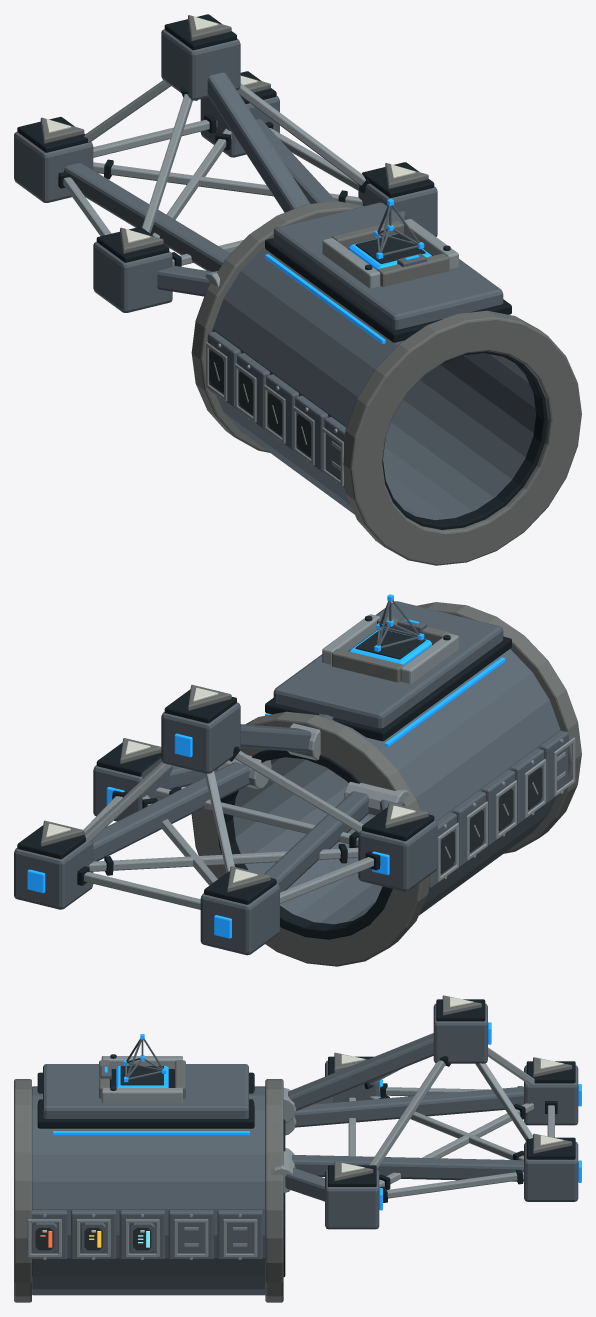
Rendered from PentachoronArcLattice.glb.
3 views of the same model, one above another, from view 1: azimuth 30°, elevation 25°; view 2: azimuth 150°, elevation 25°; view 3: azimuth 270°, elevation 25° (orthographic). The views are drawn at different scales.
Parts seen in each view (by area): view 1: Pentachoron_HollowForearmShell, Pentachoron_CuffRim_-0.148, Pentachoron_DorsalControlPlate, Pentachoron_CuffRim_-0.009, Pentachoron_ArticulatedWristLink_2, Pentachoron_ArticulatedWristLink_4, Pentachoron_NodeHousing_0, Pentachoron_NodeHousing_4, Pentachoron_InnerCuffGasket_-0.148, Pentachoron_NodeHousing_2, Pentachoron_DorsalGasket, Pentachoron_ConductionLattice_1_2 (+26 smaller); view 2: Pentachoron_HollowForearmShell, Pentachoron_CuffRim_-0.009, Pentachoron_DorsalControlPlate, Pentachoron_CuffRim_-0.148, Pentachoron_ArticulatedWristLink_3, Pentachoron_NodeHousing_2, Pentachoron_NodeHousing_4, Pentachoron_NodeHousing_0, Pentachoron_NodeHousing_3, Pentachoron_InnerCuffGasket_-0.009, Pentachoron_ArticulatedWristLink_2, Pentachoron_DorsalGasket (+42 smaller); view 3: Pentachoron_HollowForearmShell, Pentachoron_DorsalControlPlate, Pentachoron_ArticulatedWristLink_2, Pentachoron_CuffRim_-0.009, Pentachoron_CuffRim_-0.148, Pentachoron_ArticulatedWristLink_3, Pentachoron_ArticulatedWristLink_4, Pentachoron_DorsalGasket, Pentachoron_NodeHousing_1, Pentachoron_NodeHousing_3, Pentachoron_NodeHousing_4, Pentachoron_NodeHousing_2 (+30 smaller).
Boxes of the visible parts, x1,y1,x2,y2 form: Pentachoron_HollowForearmShell: [212, 246, 535, 520]; Pentachoron_CuffRim_-0.148: [343, 310, 581, 565]; Pentachoron_DorsalControlPlate: [273, 202, 503, 329]; Pentachoron_CuffRim_-0.009: [191, 201, 363, 452]; Pentachoron_ArticulatedWristLink_2: [64, 163, 230, 271]; Pentachoron_ArticulatedWristLink_4: [207, 72, 310, 212]; Pentachoron_NodeHousing_0: [93, 241, 172, 312]; Pentachoron_NodeHousing_4: [161, 29, 240, 100]; Pentachoron_InnerCuffGasket_-0.148: [382, 351, 547, 529]; Pentachoron_NodeHousing_2: [14, 131, 93, 202]; Pentachoron_DorsalGasket: [265, 238, 511, 342]; Pentachoron_ConductionLattice_1_2: [93, 162, 362, 205]; Pentachoron_HollowForearmShell: [233, 649, 560, 924]; Pentachoron_CuffRim_-0.009: [191, 711, 430, 966]; Pentachoron_DorsalControlPlate: [273, 601, 503, 728]; Pentachoron_CuffRim_-0.148: [417, 602, 581, 853]; Pentachoron_ArticulatedWristLink_3: [93, 762, 249, 861]; Pentachoron_NodeHousing_2: [200, 883, 279, 955]; Pentachoron_NodeHousing_4: [161, 702, 240, 773]; Pentachoron_NodeHousing_0: [358, 820, 437, 891]; Pentachoron_NodeHousing_3: [14, 840, 93, 909]; Pentachoron_InnerCuffGasket_-0.009: [218, 749, 392, 939]; Pentachoron_ArticulatedWristLink_2: [264, 791, 368, 892]; Pentachoron_DorsalGasket: [265, 636, 511, 741]; Pentachoron_HollowForearmShell: [32, 1086, 265, 1295]; Pentachoron_DorsalControlPlate: [43, 1064, 248, 1118]; Pentachoron_ArticulatedWristLink_2: [294, 1086, 523, 1127]; Pentachoron_CuffRim_-0.009: [265, 1079, 283, 1302]; Pentachoron_CuffRim_-0.148: [14, 1079, 31, 1302]; Pentachoron_ArticulatedWristLink_3: [292, 1155, 523, 1181]; Pentachoron_ArticulatedWristLink_4: [288, 1033, 433, 1110]; Pentachoron_DorsalGasket: [37, 1072, 254, 1128]; Pentachoron_NodeHousing_1: [325, 1169, 379, 1229]; Pentachoron_NodeHousing_3: [524, 1142, 578, 1201]; Pentachoron_NodeHousing_4: [433, 1003, 487, 1063]; Pentachoron_NodeHousing_2: [524, 1065, 578, 1125].
Size of the model in its own units: 0.169 by 0.1775 by 0.314.
